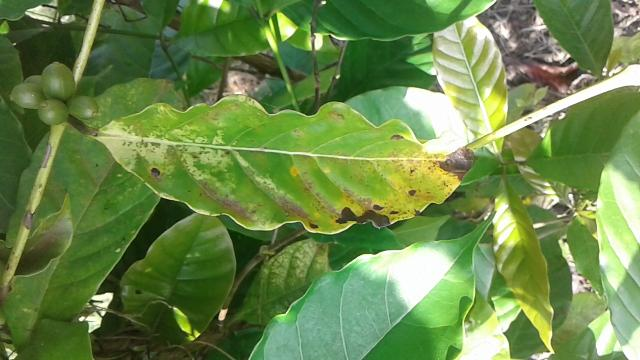rust_level_2: (96, 94, 478, 234)
